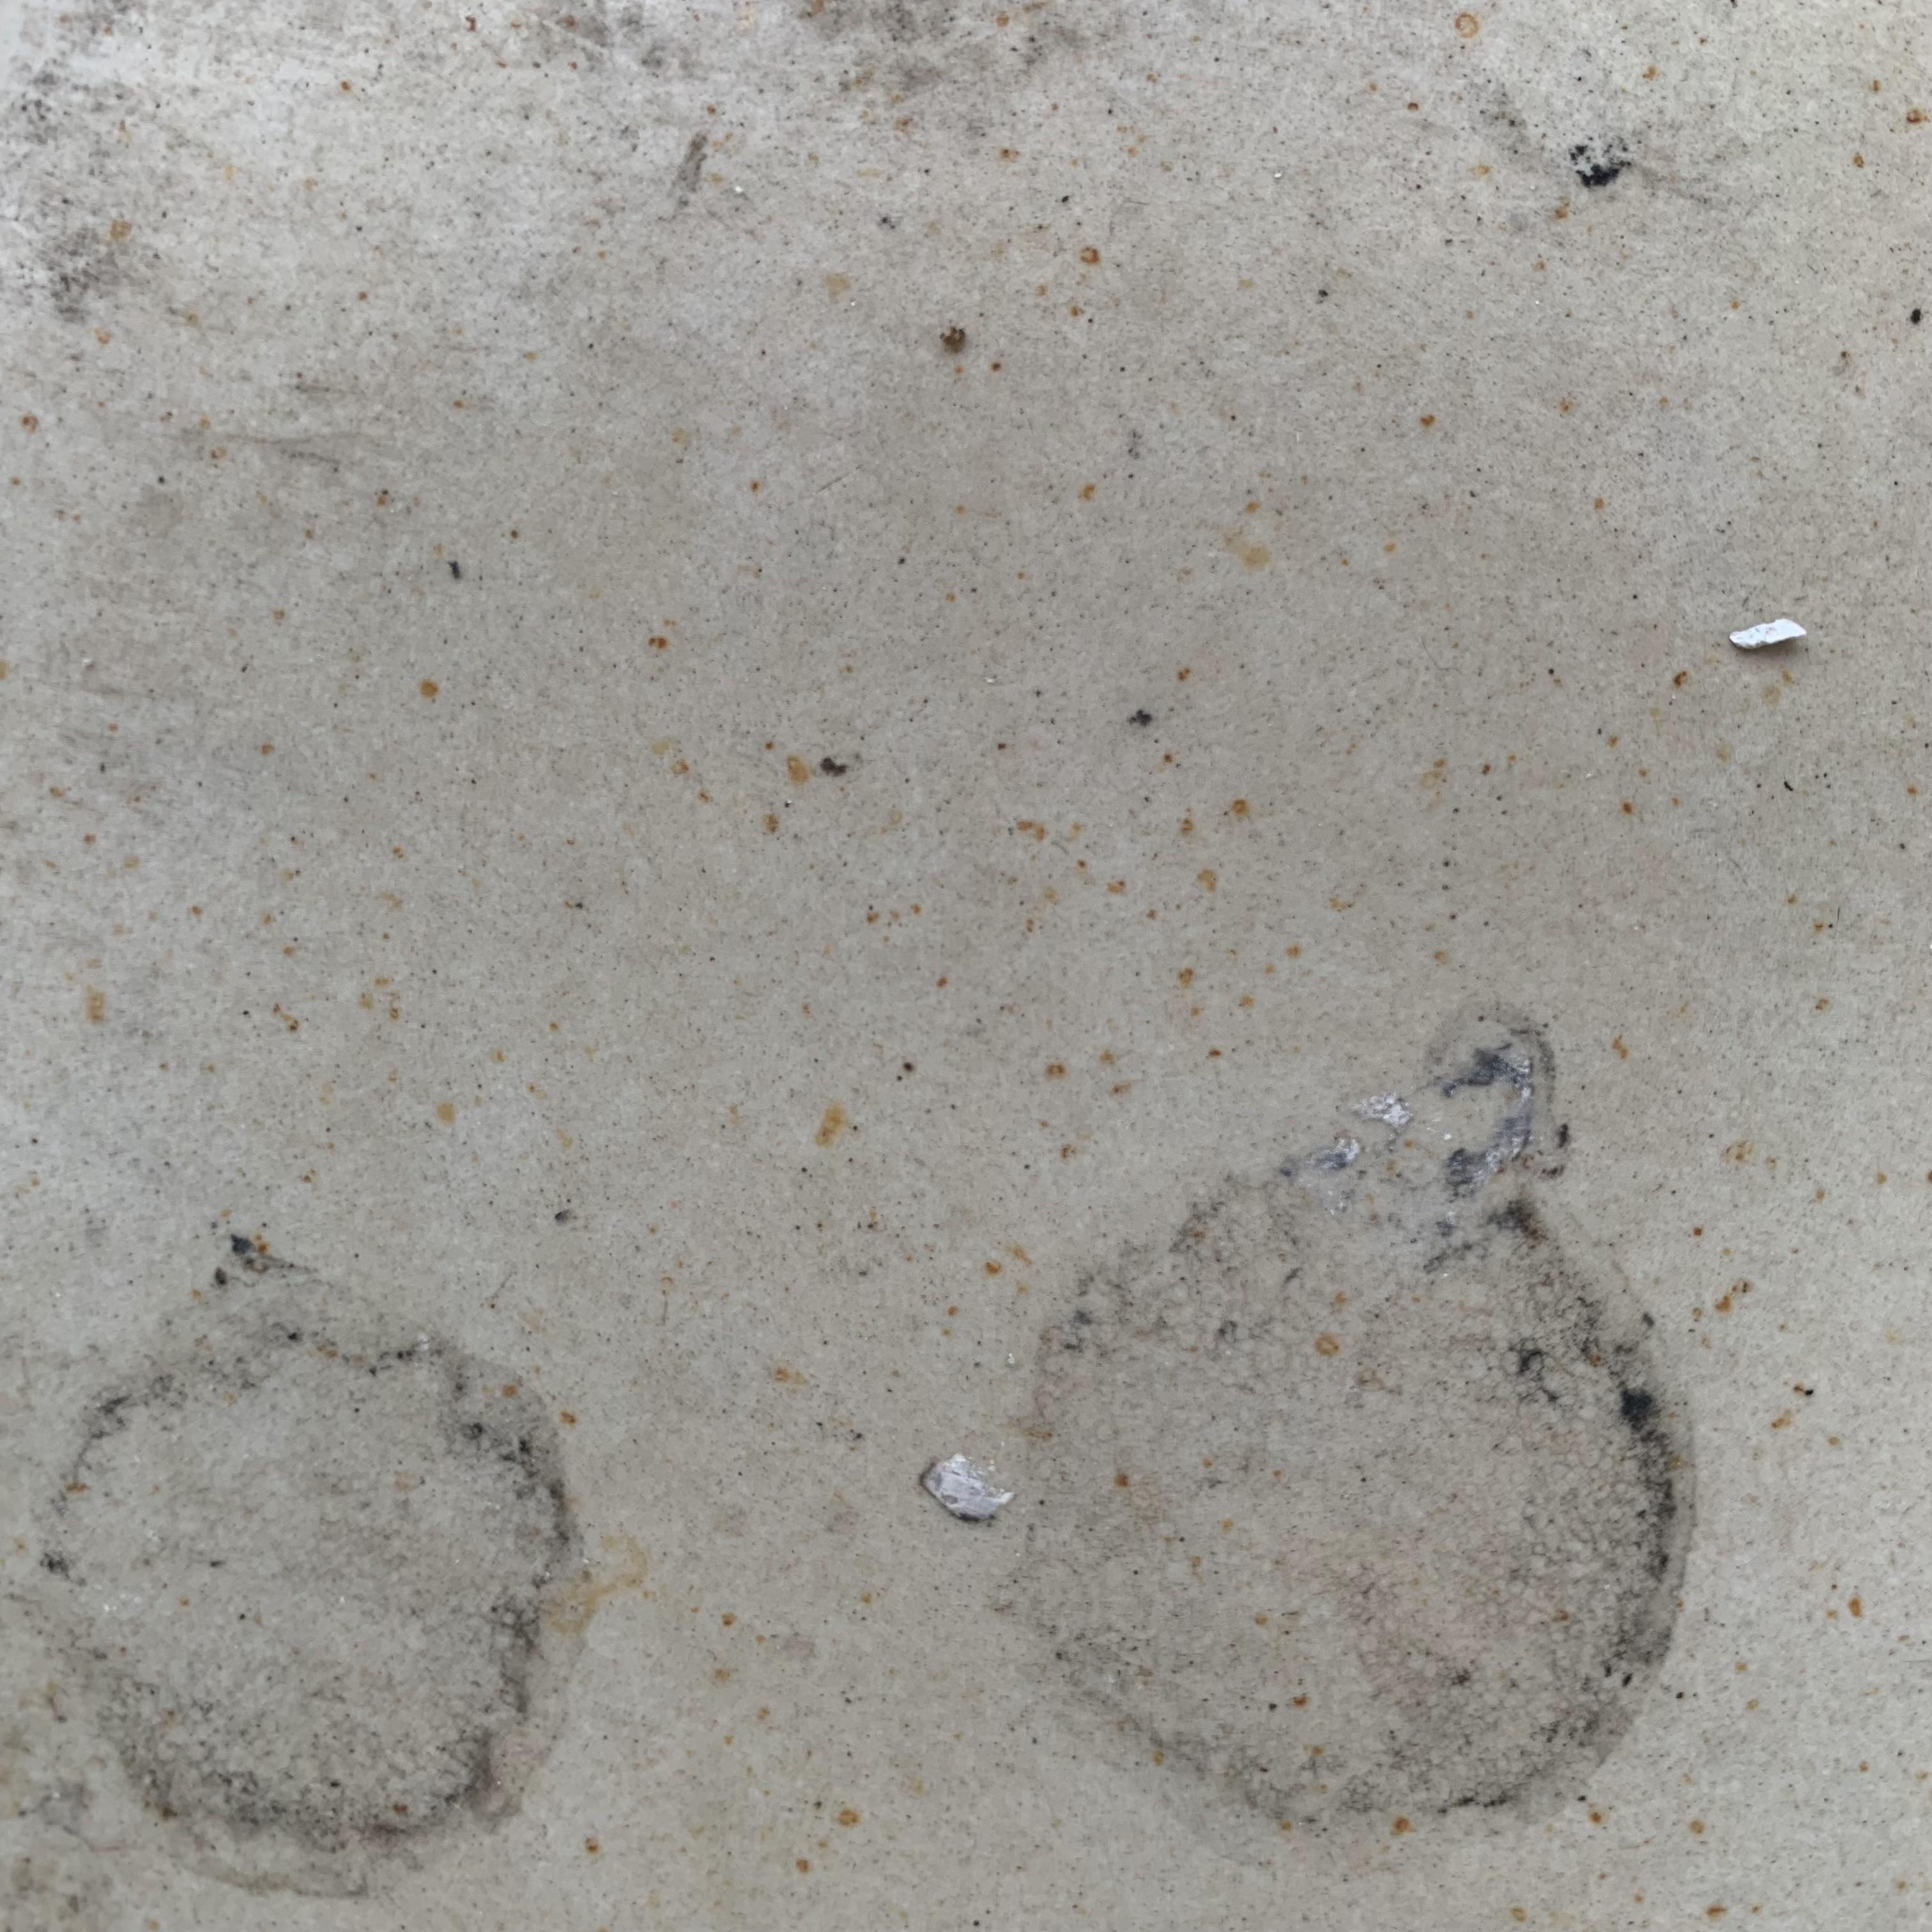grey spot: (1005, 1000, 1697, 1874), (34, 1238, 584, 1898)
